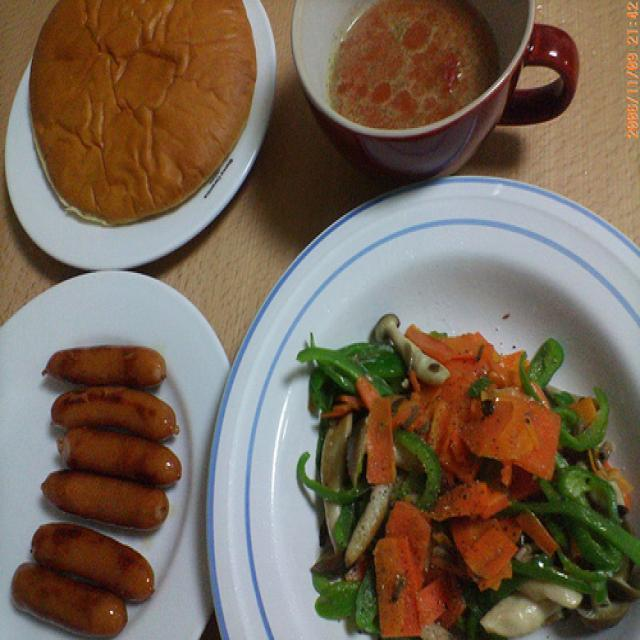Sausage: (22, 337, 180, 640)
